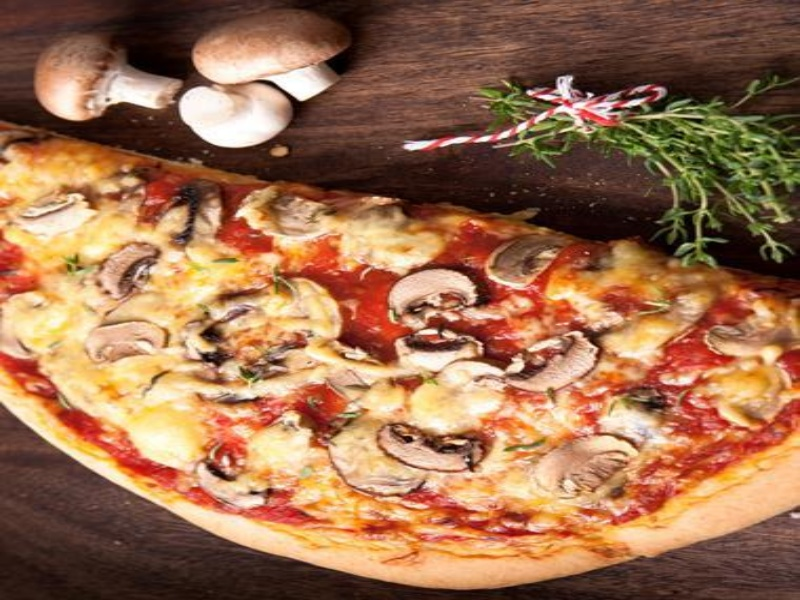champignon: (528, 427, 642, 503), (505, 323, 600, 403), (374, 416, 489, 478), (383, 267, 490, 327), (94, 232, 165, 306), (78, 318, 174, 364)
